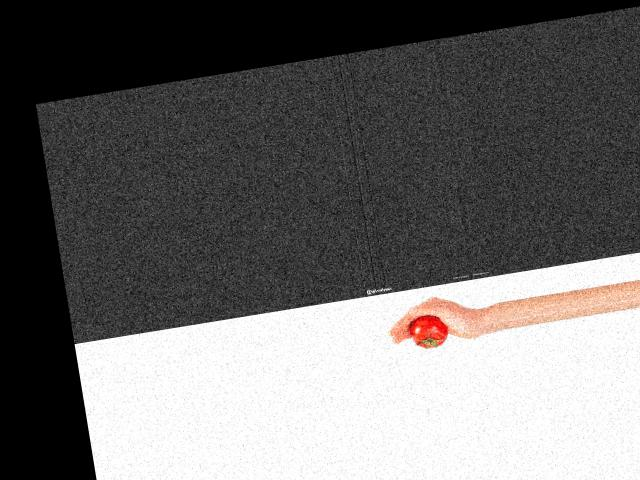tomato: (409, 312, 451, 349)
